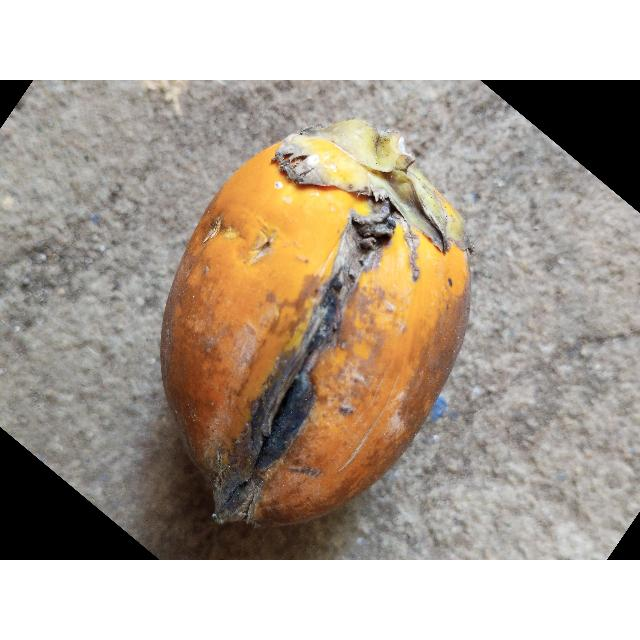damaged: (161, 120, 472, 524)
